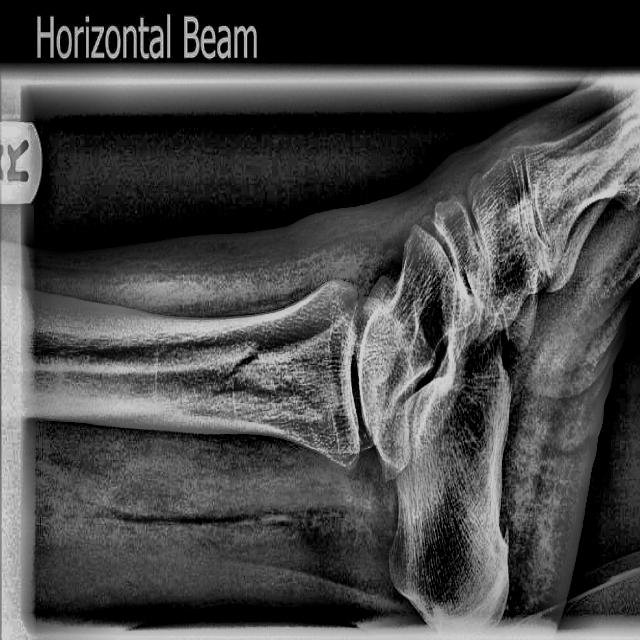line: (208, 348, 270, 406)
